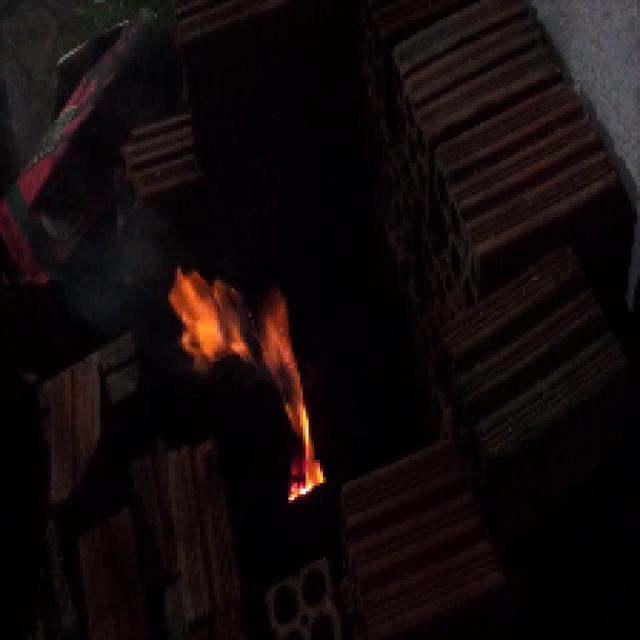fire: (170, 272, 334, 507)
